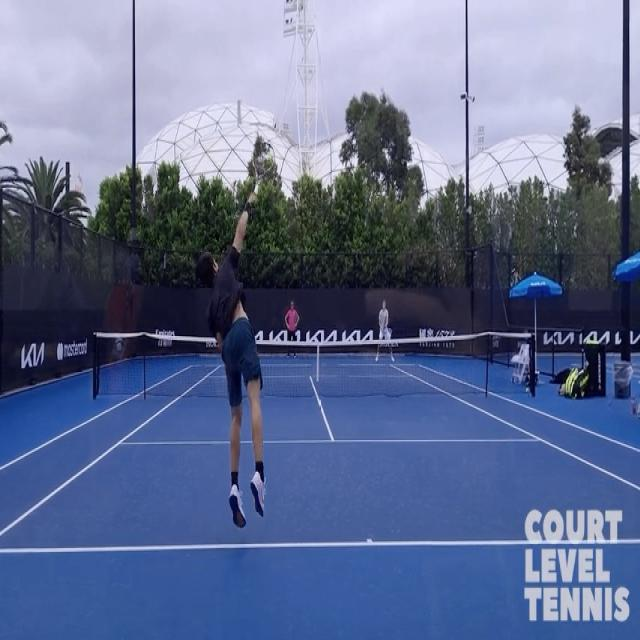serve_hit: (182, 123, 280, 524)
